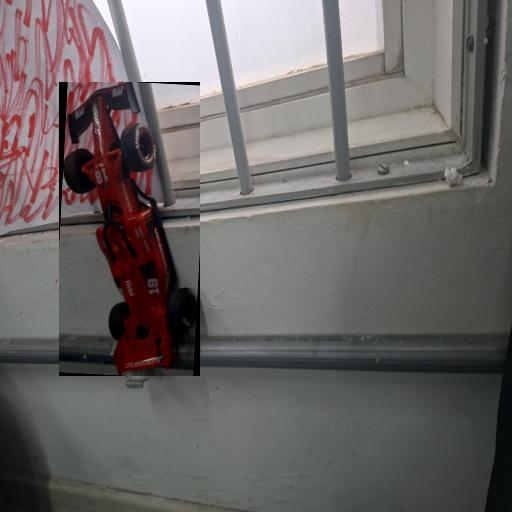carro: (60, 82, 199, 375)
